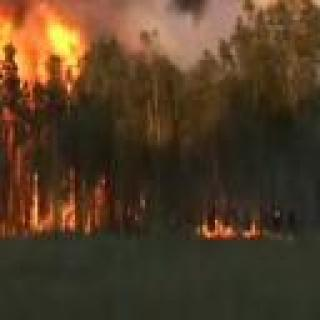fire: (0, 0, 135, 238), (199, 210, 272, 247)
